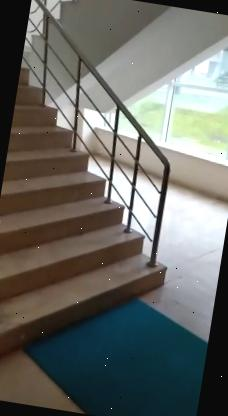stair: (0, 60, 190, 397)
